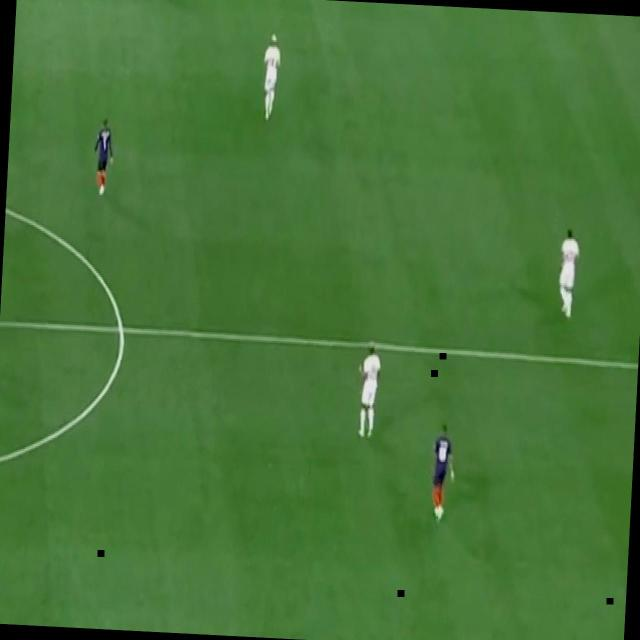player-white: (429, 423, 457, 523), (355, 340, 382, 438), (556, 227, 580, 319), (91, 116, 116, 197), (260, 33, 282, 122)
